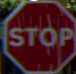Stop: (5, 1, 75, 73)
